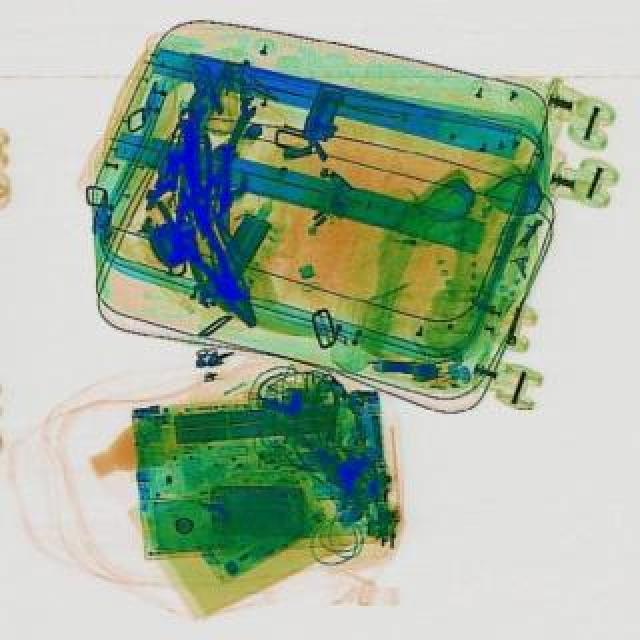wrench: (152, 182, 272, 336)
